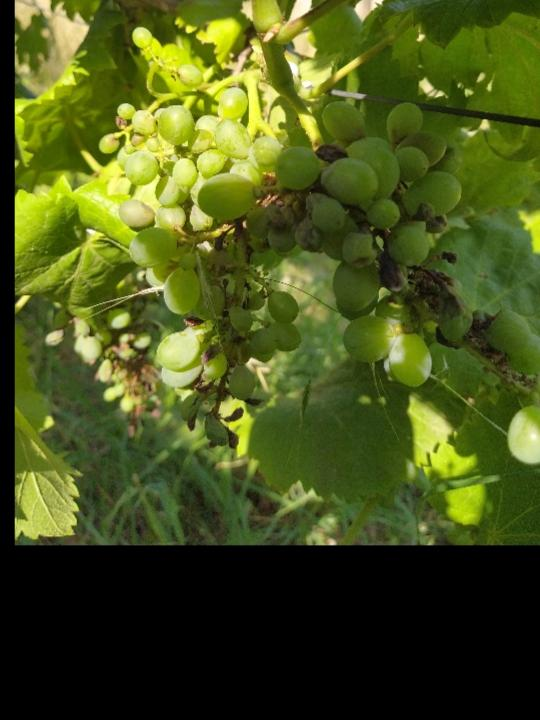grape: (117, 74, 540, 468)
